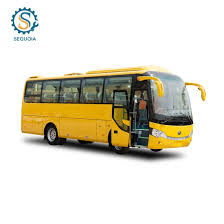bus: (20, 65, 208, 153)
